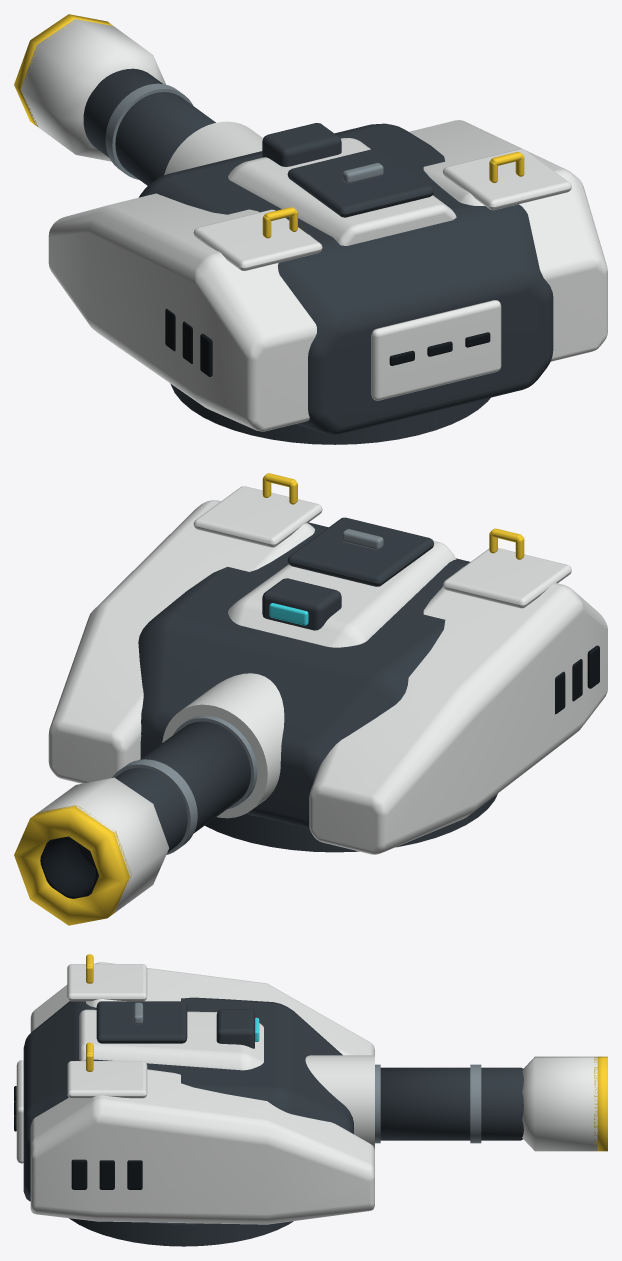
File: cannon.glb
3 renders of one model, top to bottom at view 1: azimuth 30°, elevation 25°; view 2: azimuth 150°, elevation 25°; view 3: azimuth 270°, elevation 25°, orthographic. The views are drawn at different scales.
Visible parts, largest first — view 1: Central housing, Cheek armor, Cheek armor.001, Muzzle armor, Rear service panel, Barrel, Roof spine, Roof hatch, Rear shoulder pad, Thin rotation bearing, Rear shoulder pad.001, Barrel collar (+4 smaller); view 2: Cheek armor, Central housing, Cheek armor.001, Barrel, Roof spine, Yellow muzzle lip, Barrel collar, Muzzle armor, Roof hatch, Rear shoulder pad.001, Rear shoulder pad, Thin rotation bearing (+5 smaller); view 3: Cheek armor.001, Central housing, Barrel, Muzzle armor, Cheek armor, Roof spine, Thin rotation bearing, Roof hatch, Barrel collar, Rear shoulder pad.001, Rear shoulder pad, Optic housing (+7 smaller).
Part boxes in pixels (bbox=[...]): Central housing: bbox=[139, 123, 553, 434]; Cheek armor: bbox=[48, 193, 316, 431]; Cheek armor.001: bbox=[409, 120, 607, 361]; Muzzle armor: bbox=[20, 19, 165, 161]; Rear service panel: bbox=[371, 300, 501, 400]; Barrel: bbox=[83, 68, 215, 185]; Roof spine: bbox=[228, 138, 456, 245]; Roof hatch: bbox=[287, 148, 433, 217]; Rear shoulder pad: bbox=[193, 209, 322, 270]; Thin rotation bearing: bbox=[170, 383, 490, 444]; Rear shoulder pad.001: bbox=[443, 149, 571, 210]; Barrel collar: bbox=[164, 121, 263, 175]; Cheek armor: bbox=[309, 567, 607, 854]; Central housing: bbox=[138, 522, 469, 828]; Cheek armor.001: bbox=[48, 500, 314, 783]; Barrel: bbox=[115, 721, 250, 852]; Roof spine: bbox=[228, 540, 456, 647]; Yellow muzzle lip: bbox=[14, 805, 131, 925]; Barrel collar: bbox=[162, 673, 284, 818]; Muzzle armor: bbox=[38, 777, 169, 912]; Roof hatch: bbox=[287, 517, 433, 586]; Rear shoulder pad.001: bbox=[193, 486, 322, 547]; Rear shoulder pad: bbox=[443, 548, 571, 608]; Thin rotation bearing: bbox=[205, 793, 497, 852]; Cheek armor.001: bbox=[30, 1069, 374, 1224]; Central housing: bbox=[23, 997, 353, 1201]; Barrel: bbox=[380, 1067, 523, 1140]; Muzzle armor: bbox=[522, 1056, 597, 1151]; Cheek armor: bbox=[30, 962, 374, 1055]; Roof spine: bbox=[79, 1009, 263, 1070]; Thin rotation bearing: bbox=[69, 1218, 293, 1246]; Roof hatch: bbox=[96, 1001, 187, 1043]; Barrel collar: bbox=[305, 1055, 374, 1150]; Rear shoulder pad.001: bbox=[67, 1061, 147, 1098]; Rear shoulder pad: bbox=[67, 964, 147, 1001]; Optic housing: bbox=[216, 1009, 254, 1048].
Size of the model in its own units: 1.04 by 0.594 by 1.71.
